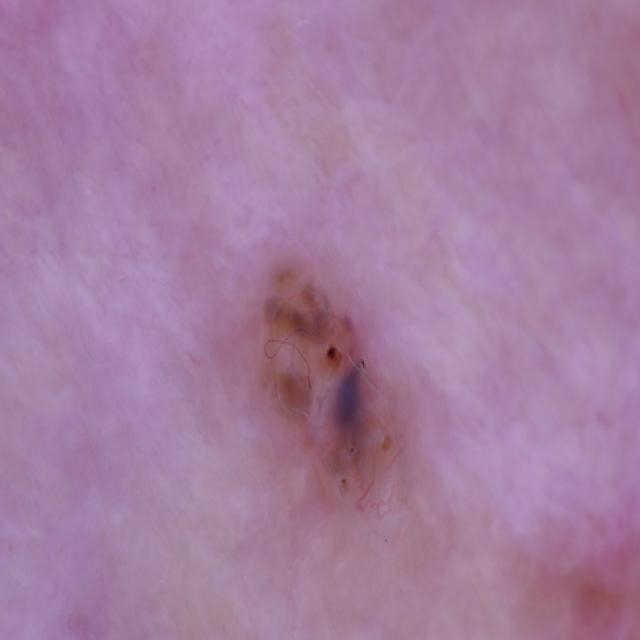Carcinoma: (219, 204, 445, 504)
